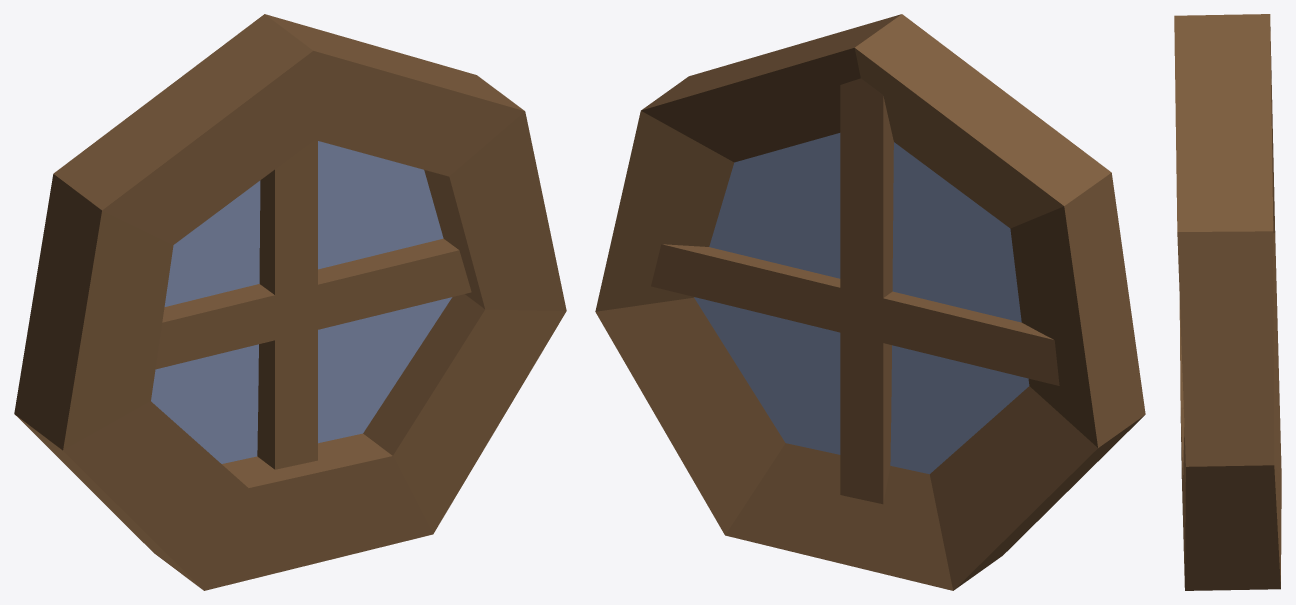
The model's file is Window_Round.fbx.
3 renders of one model, left to right at view 1: azimuth 30°, elevation 25°; view 2: azimuth 150°, elevation 25°; view 3: azimuth 270°, elevation 25°, orthographic.
Parts seen in each view (by area): view 1: Window_Round; view 2: Window_Round; view 3: Window_Round.
Boxes of the visible parts, <box> form: Window_Round: <box>14,14,566,590</box>; Window_Round: <box>595,14,1145,590</box>; Window_Round: <box>1174,14,1281,590</box>.
Size of the model in its own units: 79.39 by 77.67 by 14.66.
